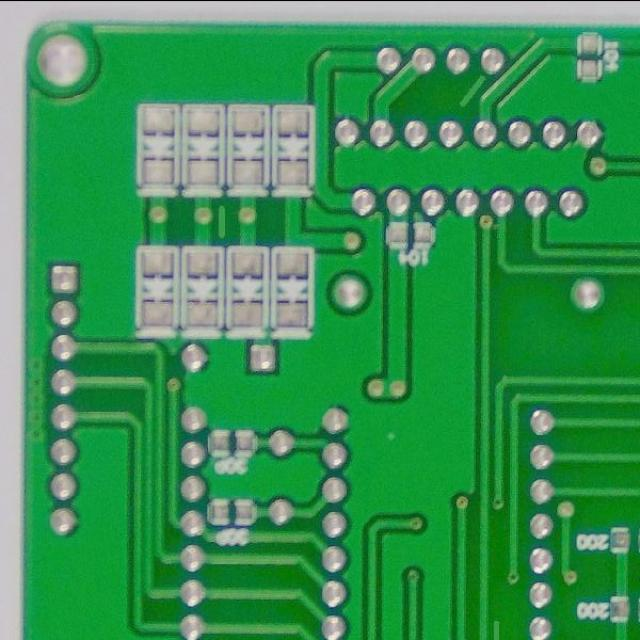spurious_copper: (454, 74, 491, 114), (209, 195, 233, 244), (482, 615, 508, 639)
